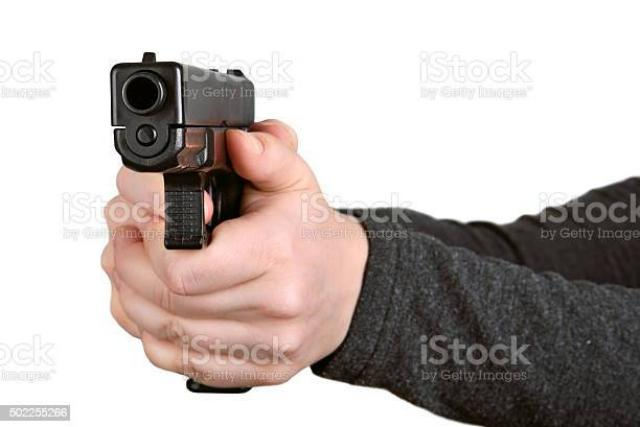handgun: (106, 49, 262, 397)
